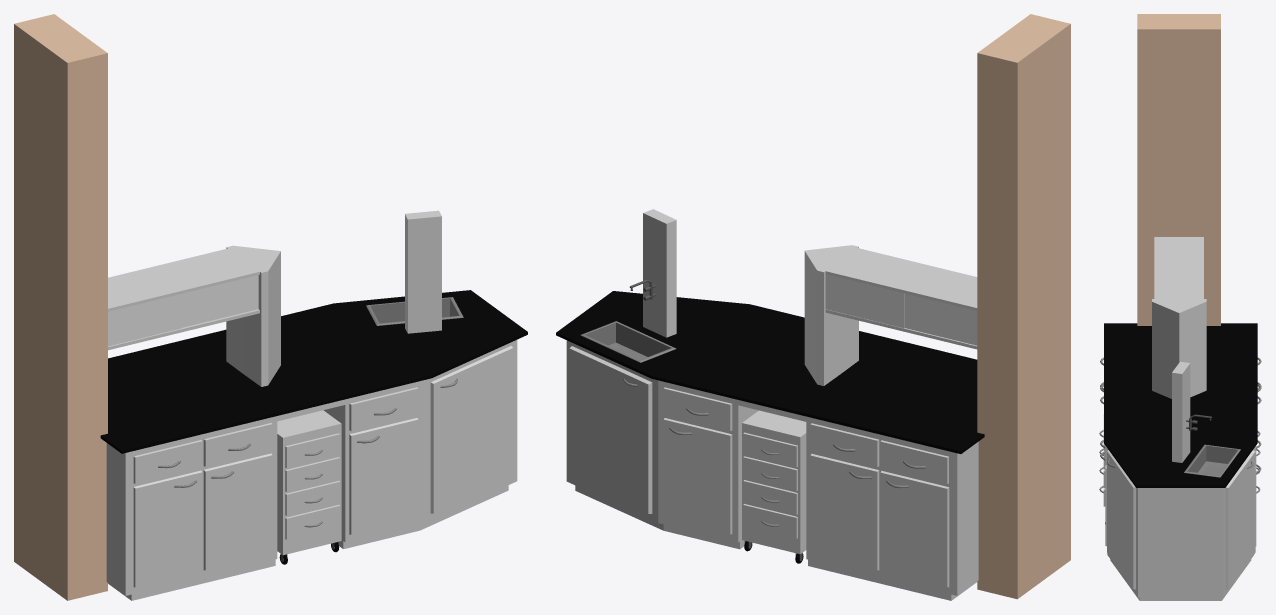
Rendered from mesa.fbx.
3 views of the same model, side by side, from view 1: azimuth 30°, elevation 25°; view 2: azimuth 150°, elevation 25°; view 3: azimuth 270°, elevation 25° (orthographic). The views are drawn at different scales.
Visible parts, largest first — view 1: Cube.036, Cube.001, Cube, Cube.007, Cube.037, Cube.005, Cube.003, Cube.009, Cube.002, Cube.038, Cube.019, Cube.018 (+8 smaller); view 2: Cube.036, Cube.001, Cube, Cube.016, Cube.037, Cube.008, Cube.012, Cube.014, Cube.002, Cube.026, Cube.021, Cube.020 (+8 smaller); view 3: Cube.036, Cube.001, Cube, Cube.037, Cube.016, Cube.007, Cube.002, Cube.017.
Boxes of the visible parts, bbox=[...] form: Cube.036: bbox=[14, 14, 107, 600]; Cube.001: bbox=[100, 290, 527, 453]; Cube: bbox=[106, 340, 517, 600]; Cube.007: bbox=[430, 346, 513, 513]; Cube.037: bbox=[108, 245, 280, 386]; Cube.005: bbox=[203, 453, 272, 570]; Cube.003: bbox=[133, 470, 202, 587]; Cube.009: bbox=[349, 418, 418, 534]; Cube.002: bbox=[405, 210, 441, 333]; Cube.038: bbox=[277, 410, 341, 555]; Cube.019: bbox=[181, 275, 258, 327]; Cube.018: bbox=[108, 294, 181, 346]; Cube.036: bbox=[977, 14, 1070, 599]; Cube.001: bbox=[556, 291, 984, 453]; Cube: bbox=[566, 340, 978, 600]; Cube.016: bbox=[569, 346, 652, 513]; Cube.037: bbox=[804, 245, 977, 385]; Cube.008: bbox=[810, 453, 879, 570]; Cube.012: bbox=[880, 470, 949, 587]; Cube.014: bbox=[663, 418, 732, 534]; Cube.002: bbox=[643, 209, 676, 337]; Cube.026: bbox=[742, 410, 806, 554]; Cube.021: bbox=[825, 274, 904, 328]; Cube.020: bbox=[904, 293, 977, 345]; Cube.036: bbox=[1137, 14, 1220, 325]; Cube.001: bbox=[1104, 323, 1257, 487]; Cube: bbox=[1107, 448, 1254, 600]; Cube.037: bbox=[1152, 237, 1206, 398]; Cube.016: bbox=[1225, 450, 1255, 589]; Cube.007: bbox=[1107, 450, 1135, 589]; Cube.002: bbox=[1172, 361, 1190, 462]; Cube.017: bbox=[1184, 444, 1240, 477].
Size of the model in its own units: 268 by 300 by 105.
